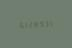eight: (32, 20, 36, 27)
nine: (37, 19, 41, 27)
one: (22, 20, 26, 28), (47, 19, 51, 27)
six: (17, 20, 21, 28)
three: (42, 19, 46, 27)
two: (27, 20, 31, 28)
